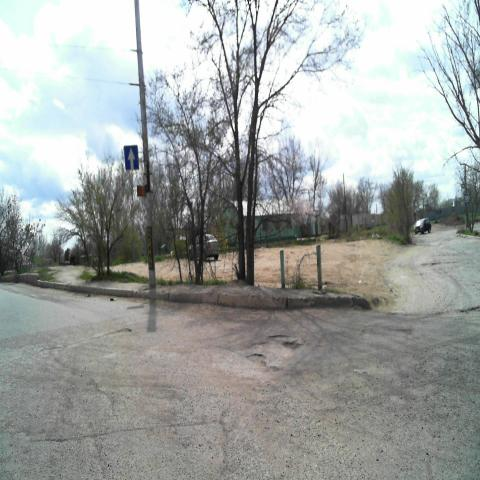5_5: (125, 145, 140, 171)
